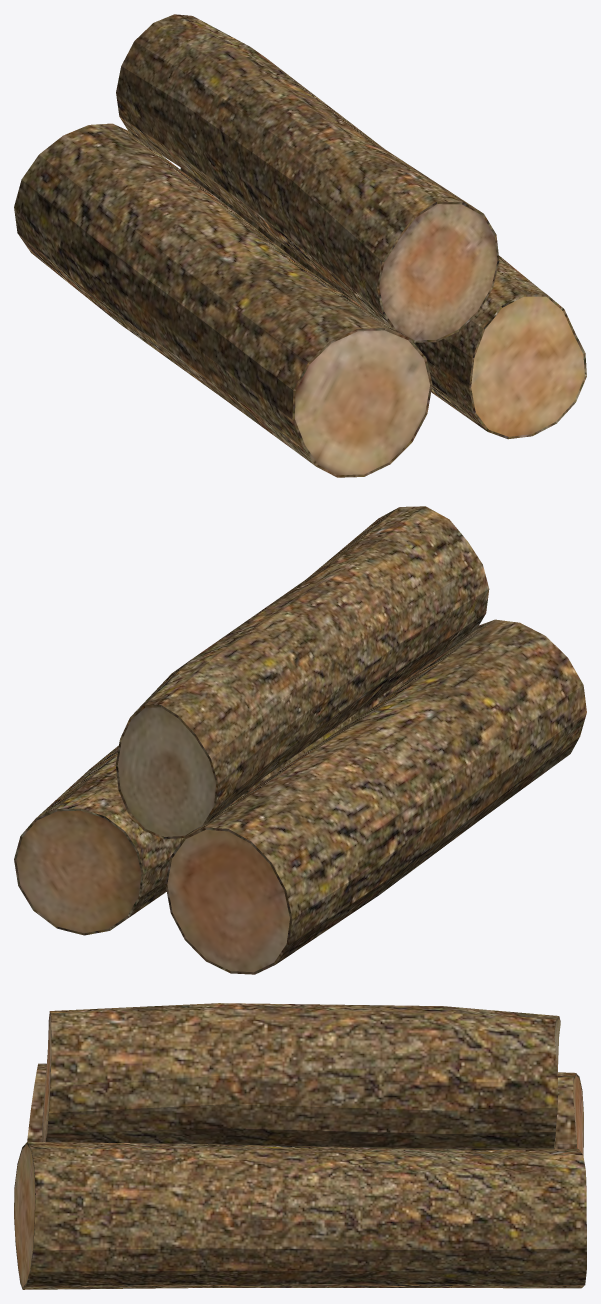
File: wood.glb
3 views of the same model, one above another, from view 1: azimuth 30°, elevation 25°; view 2: azimuth 150°, elevation 25°; view 3: azimuth 270°, elevation 25° (orthographic). The views are drawn at different scales.
Visible parts, largest first — view 1: Cylinder.002; view 2: Cylinder.002; view 3: Cylinder.002.
Part boxes in pixels (x1,y1,x2,y2): Cylinder.002: (14,14,586,477); Cylinder.002: (14,506,586,974); Cylinder.002: (14,1003,586,1289).
Bounding box in the file's own units: 1.27 × 1 × 2.2.
1 material, 1 textured.
